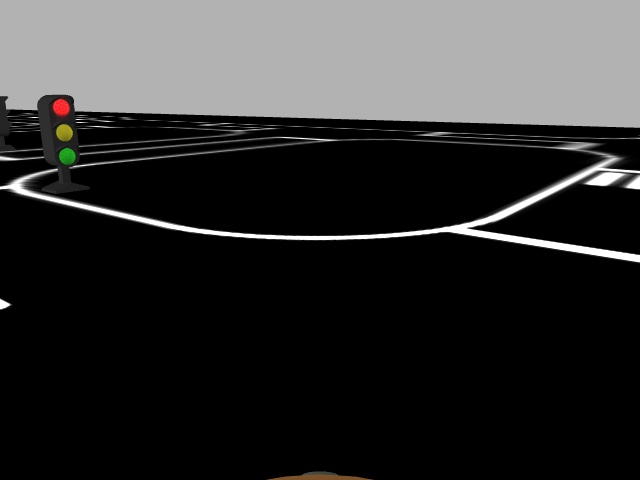red_light: (45, 94, 81, 168)
